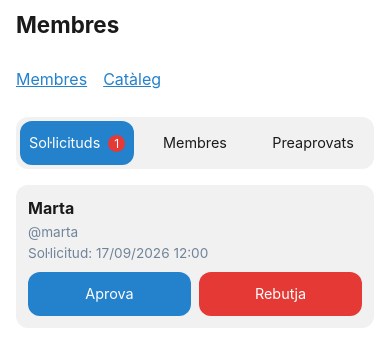
Test case: Admin → Members (PRD §10, US-1.2–1.4) › lists applicants and approves one from the row
Check: the text "Marta" is shown, box x1=28 y1=198 x2=74 y2=218
Check: the text "Sol·licitud: 17/09/2026 12:00" is shown, box x1=28 y1=245 x2=208 y2=261
Click the button "Aprova": click(110, 294) x1=28 y1=272 x2=191 y2=316
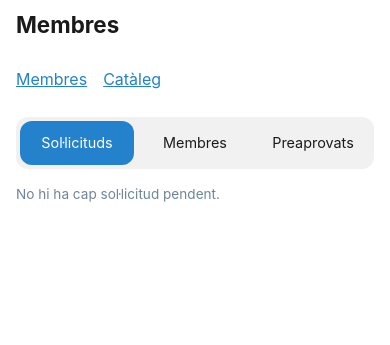
Check: the list item with test id "applicant" is gone
Check: the text "No hi ha cap sol·licitud pendent." is shown, box x1=16 y1=186 x2=220 y2=202
